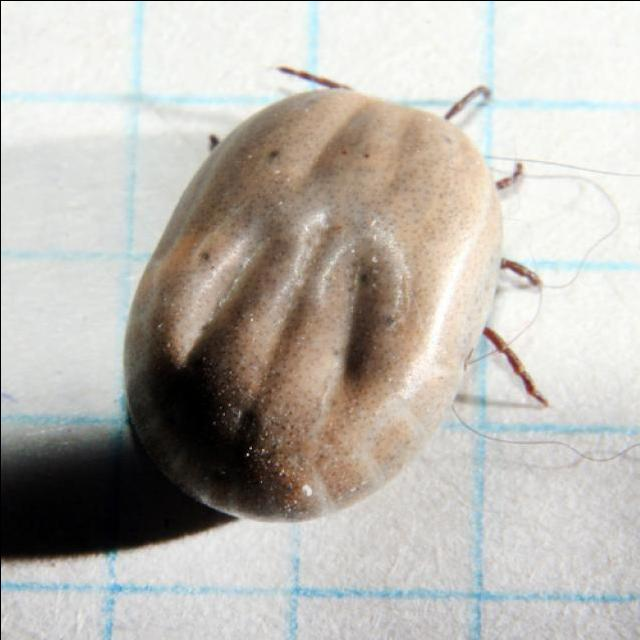Dermacentor Reticulatus-F-Fed: (124, 65, 552, 524)
